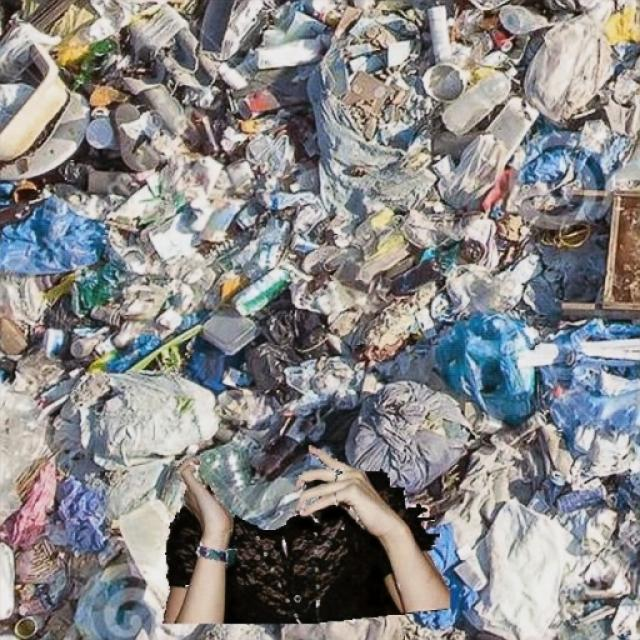Person in Rubble: (162, 445, 448, 623)
